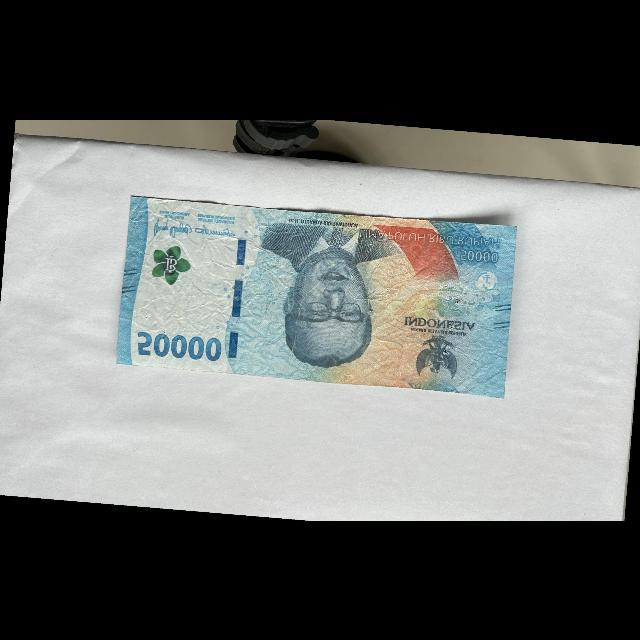Palsu-50k: (112, 191, 520, 401)
Tinta-Palsu-50k: (150, 243, 194, 287)
